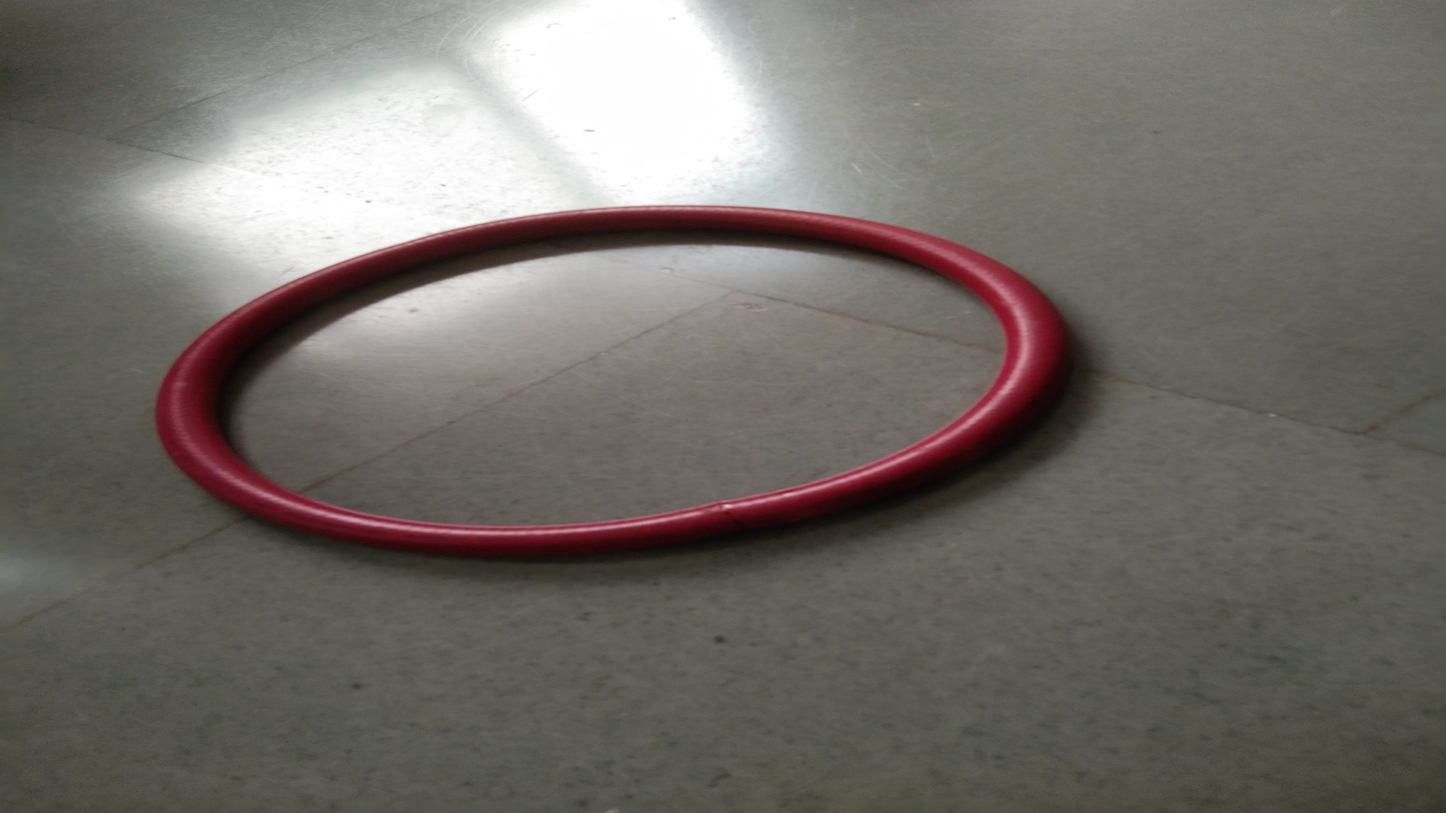Red ring: (154, 206, 1060, 547)
